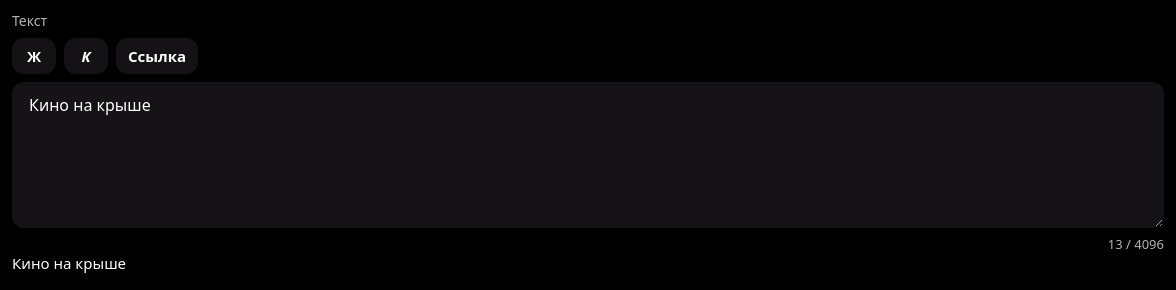
TextEditor › wraps the selection in bold
Click the button named "Жирный".
click(34, 56)  # box [12, 38, 56, 74]
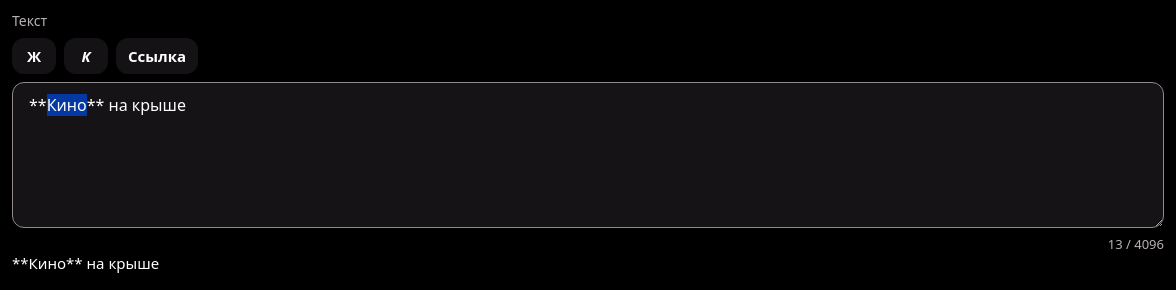
Now the text with test id "value" reads "**Кино** на крыше", box [12, 253, 159, 273]
